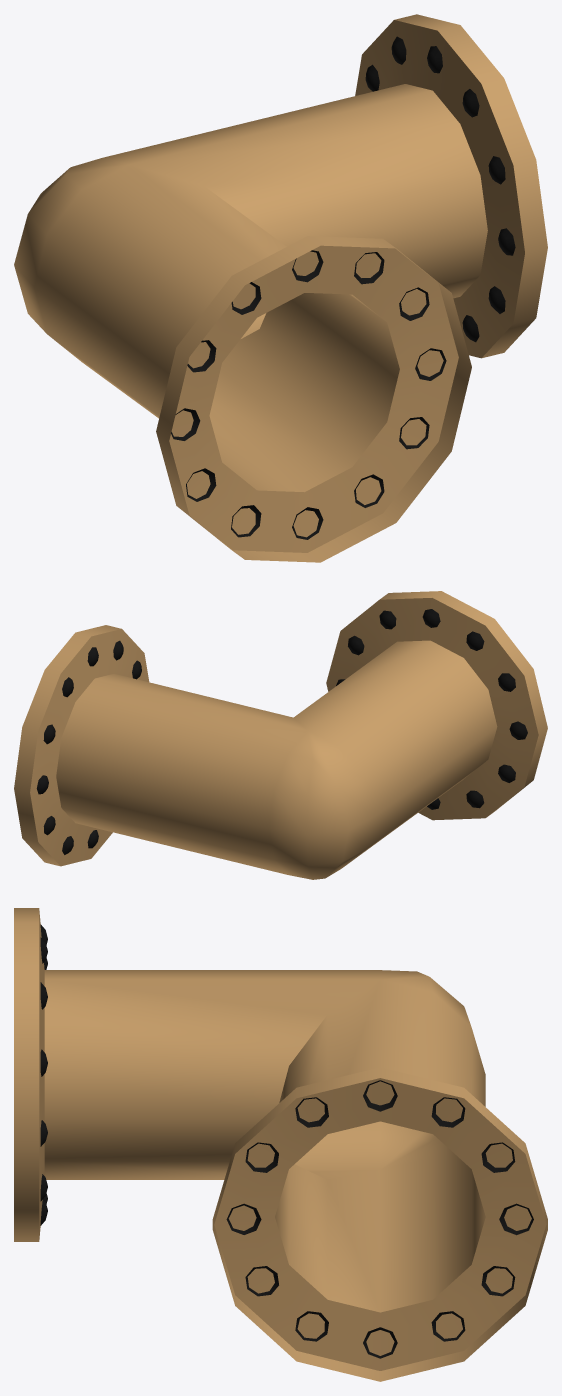
File: cornerPipe_mesh.fbx
3 renders of one model, top to bottom at view 1: azimuth 30°, elevation 25°; view 2: azimuth 150°, elevation 25°; view 3: azimuth 270°, elevation 25°, orthographic. The views are drawn at different scales.
Visible parts, largest first — view 1: cornerPipe; view 2: cornerPipe; view 3: cornerPipe.
Boxes of the visible parts, box(x1,y1,x2,y2) form: cornerPipe: box(14, 14, 547, 562); cornerPipe: box(14, 591, 547, 879); cornerPipe: box(14, 908, 547, 1381).
Size of the model in its own units: 0.7288 by 0.4576 by 0.7288.
